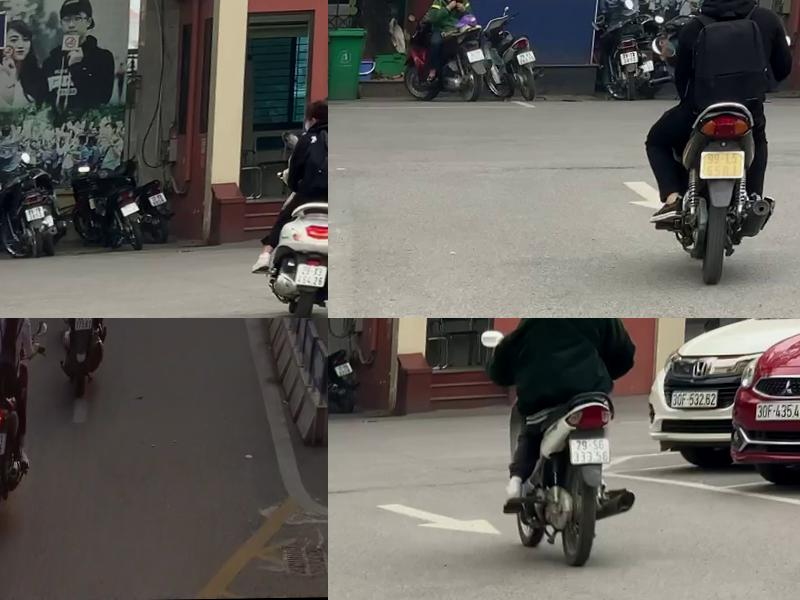license_plate: (570, 434, 620, 470), (704, 152, 752, 182), (301, 264, 328, 290), (518, 48, 541, 69), (622, 47, 645, 68), (151, 191, 174, 210), (30, 205, 50, 224), (125, 200, 145, 219), (0, 433, 14, 459), (470, 49, 490, 66), (338, 361, 358, 378), (81, 318, 98, 331)
motorcyclist: (473, 318, 660, 571), (640, 0, 799, 286), (256, 95, 328, 318), (0, 318, 57, 523), (55, 318, 131, 392)
